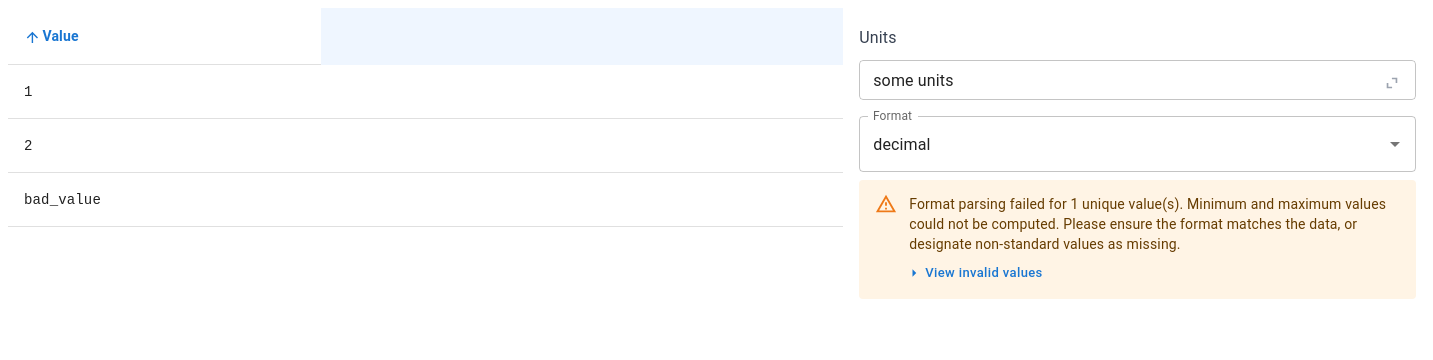
it: Continuous › should display warning alert with updated phrasing when there are invalid values
expect the message with test id "continuous-warning-alert" is shown: met, box [859,180,1416,299]
What coordinates should you click on to do the following:
click the button "View invalid values"
I would click on:
 (976, 274)
Its box is [909,262,1043,285].
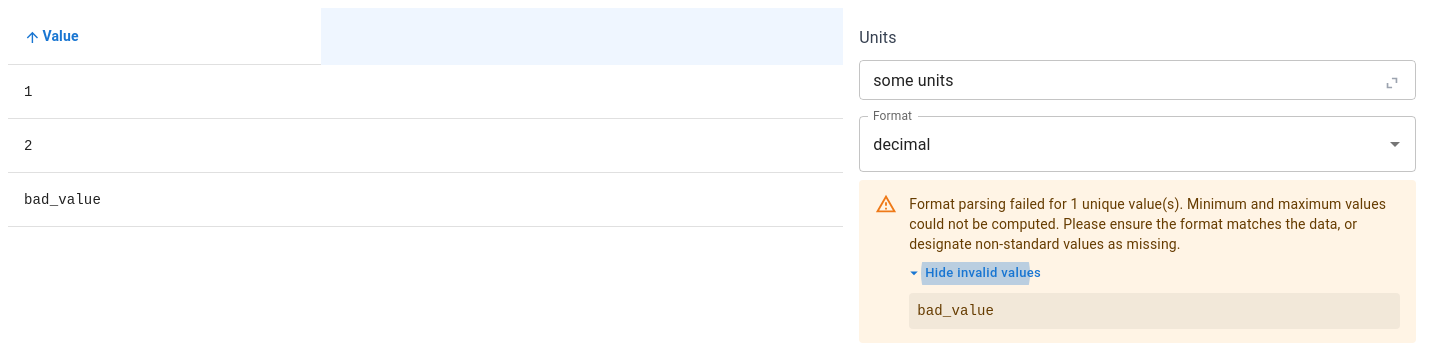
expect the text with test id "continuous-warning-alert" reads "bad_value": met, box [917,303,994,319]
